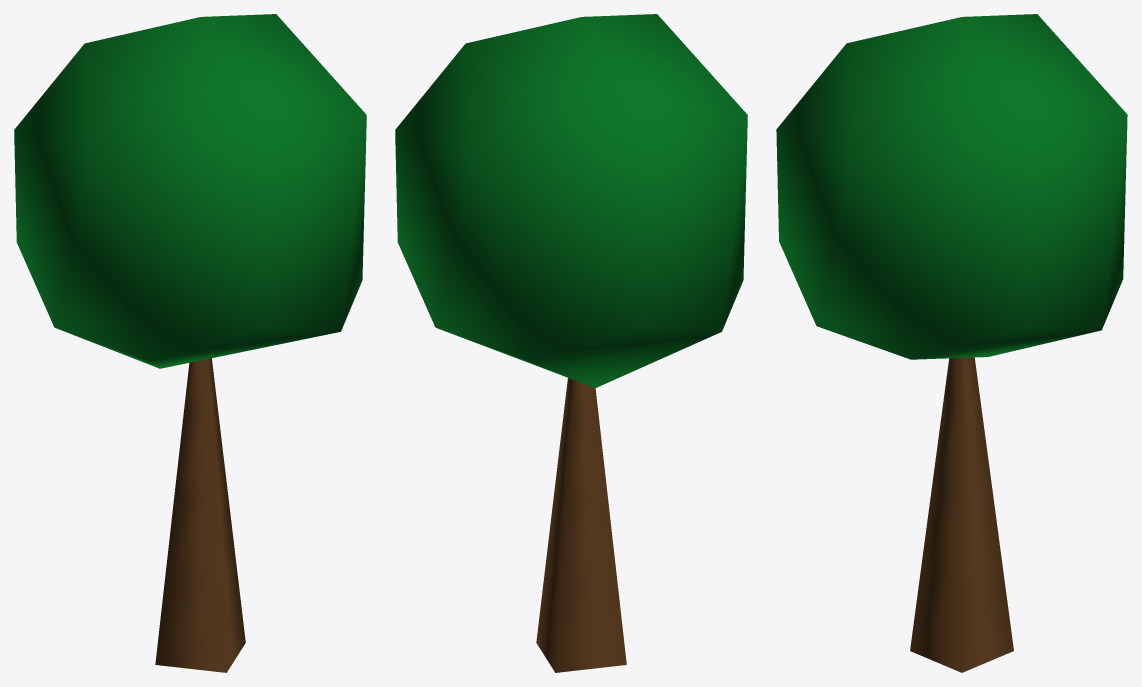
File: TREE.FBX
3 views of the same model, side by side, from view 1: azimuth 30°, elevation 25°; view 2: azimuth 150°, elevation 25°; view 3: azimuth 270°, elevation 25° (orthographic).
Visible parts, largest first — view 1: tree2; view 2: tree2; view 3: tree2.
Boxes of the visible parts, x1,y1,x2,y2 form: tree2: [14, 14, 366, 672]; tree2: [395, 14, 747, 672]; tree2: [776, 14, 1127, 672].
Size of the model in its own units: 2289 by 4685 by 2351.
